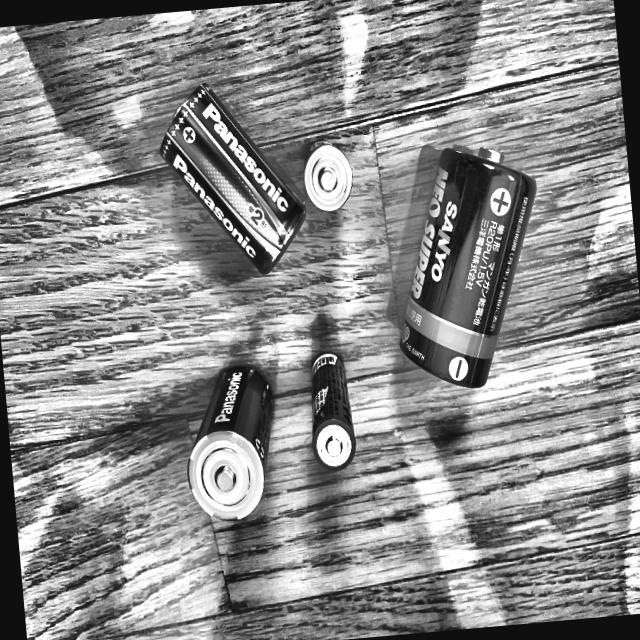drycell: (376, 123, 562, 400), (298, 344, 362, 481)
